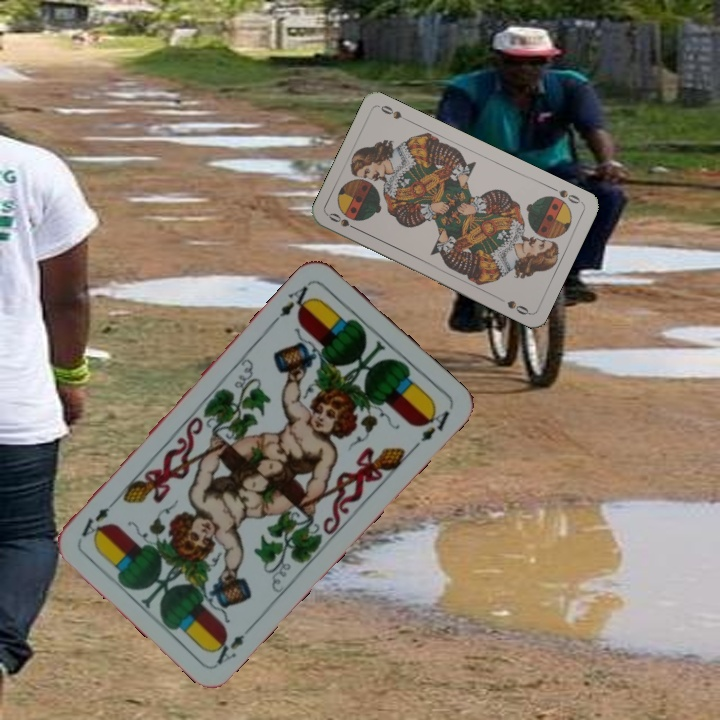EA: (207, 620, 257, 667), (269, 278, 316, 326)
SO: (324, 209, 362, 234), (546, 183, 585, 206)
